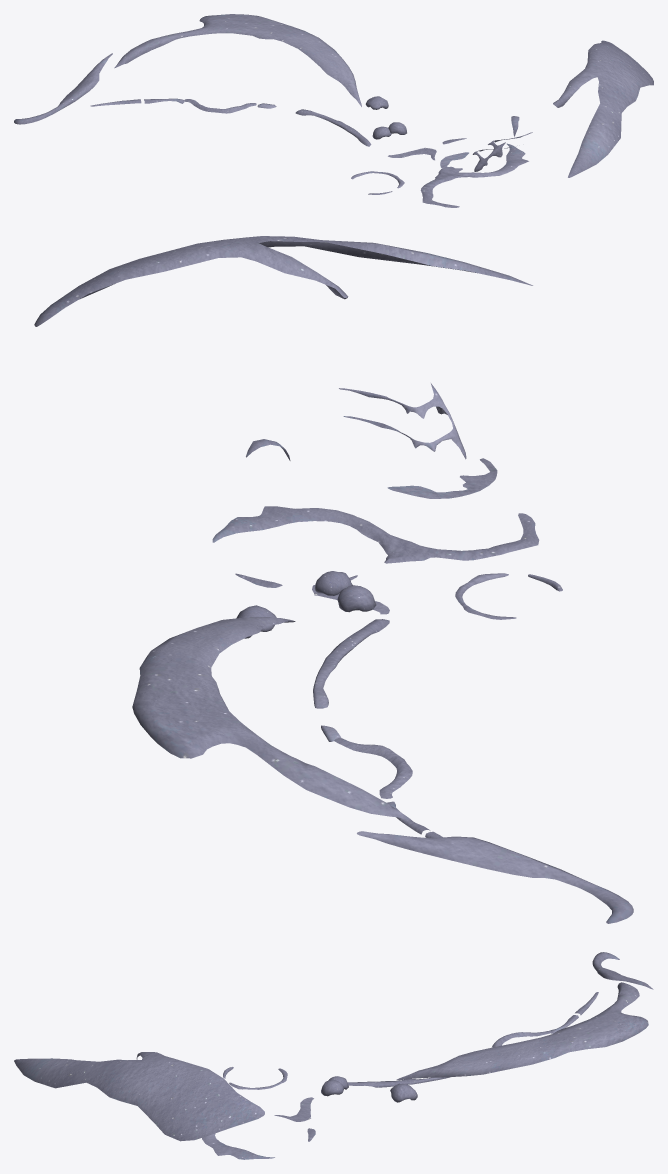
Rendered from pref_sm_beach_winter_snow19_lv2.fbx.
The picture shows the model from 3 angles, top to bottom: view 1: azimuth 30°, elevation 25°; view 2: azimuth 150°, elevation 25°; view 3: azimuth 270°, elevation 25°; orthographic projection. The views are drawn at different scales.
Parts seen in each view (by area): view 1: pref_sm_beach_winter_snow19_lv2; view 2: pref_sm_beach_winter_snow19_lv2; view 3: pref_sm_beach_winter_snow19_lv2.
Part boxes in pixels (x1,y1,x2,y2): pref_sm_beach_winter_snow19_lv2: [14, 14, 653, 207]; pref_sm_beach_winter_snow19_lv2: [34, 236, 633, 923]; pref_sm_beach_winter_snow19_lv2: [14, 952, 653, 1159].
Size of the model in its own units: 75.8 by 16.55 by 78.08.
